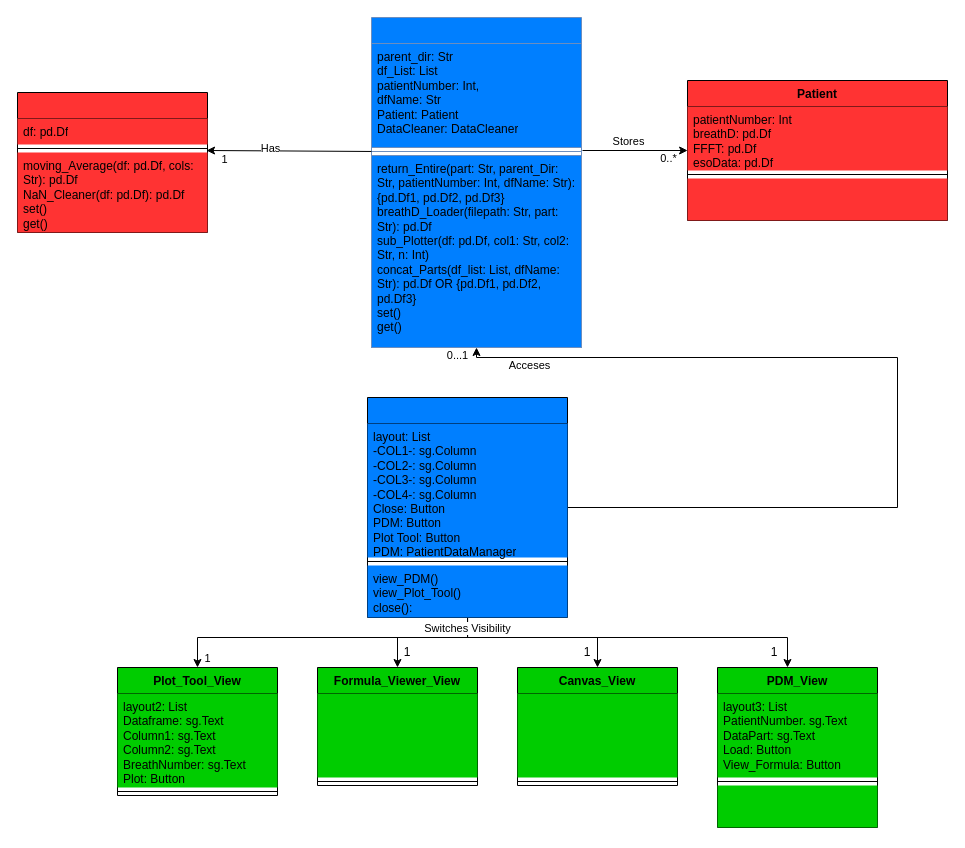
The diagram is 965 pixels wide and 848 high, and some of its shapes have lost their labels. Here are the shapes that lost their labels. From the top down, the box of each, then its label:
(16, 92, 208, 232): DataCleaner
(370, 16, 582, 348): PatientDataManager
(687, 178, 947, 220): set() get()
(366, 396, 568, 618): PDM_GUI
(317, 693, 477, 777): layout1: List hide_Formula: Button
(517, 693, 677, 777): layout4: List Exit: Button Canvas: sg.Canvas
(717, 785, 877, 827): load() view_Formula()
